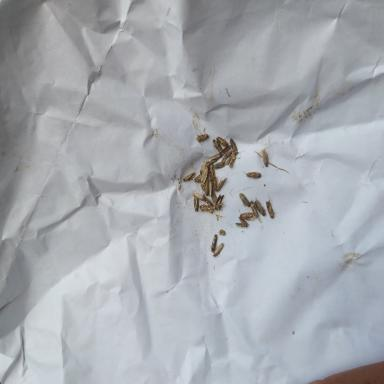pbw: (238, 192, 252, 211), (255, 197, 266, 218), (266, 194, 274, 219), (229, 138, 240, 156), (212, 242, 224, 258), (249, 199, 259, 218), (211, 135, 222, 152), (241, 170, 261, 179), (221, 148, 233, 163), (225, 152, 236, 168), (215, 193, 224, 211), (216, 176, 226, 192), (261, 148, 269, 168), (201, 164, 209, 184), (216, 136, 229, 148), (182, 171, 196, 182), (200, 195, 214, 206), (199, 203, 214, 213), (210, 234, 218, 252), (209, 152, 221, 164), (240, 212, 255, 221), (192, 192, 206, 201), (220, 145, 231, 156), (238, 216, 249, 227), (196, 133, 208, 143), (200, 161, 210, 173), (208, 164, 216, 178), (213, 162, 225, 170), (193, 196, 199, 212), (235, 222, 247, 228), (206, 178, 210, 196), (194, 174, 200, 184), (209, 178, 212, 196), (213, 179, 217, 192), (200, 184, 206, 192)
